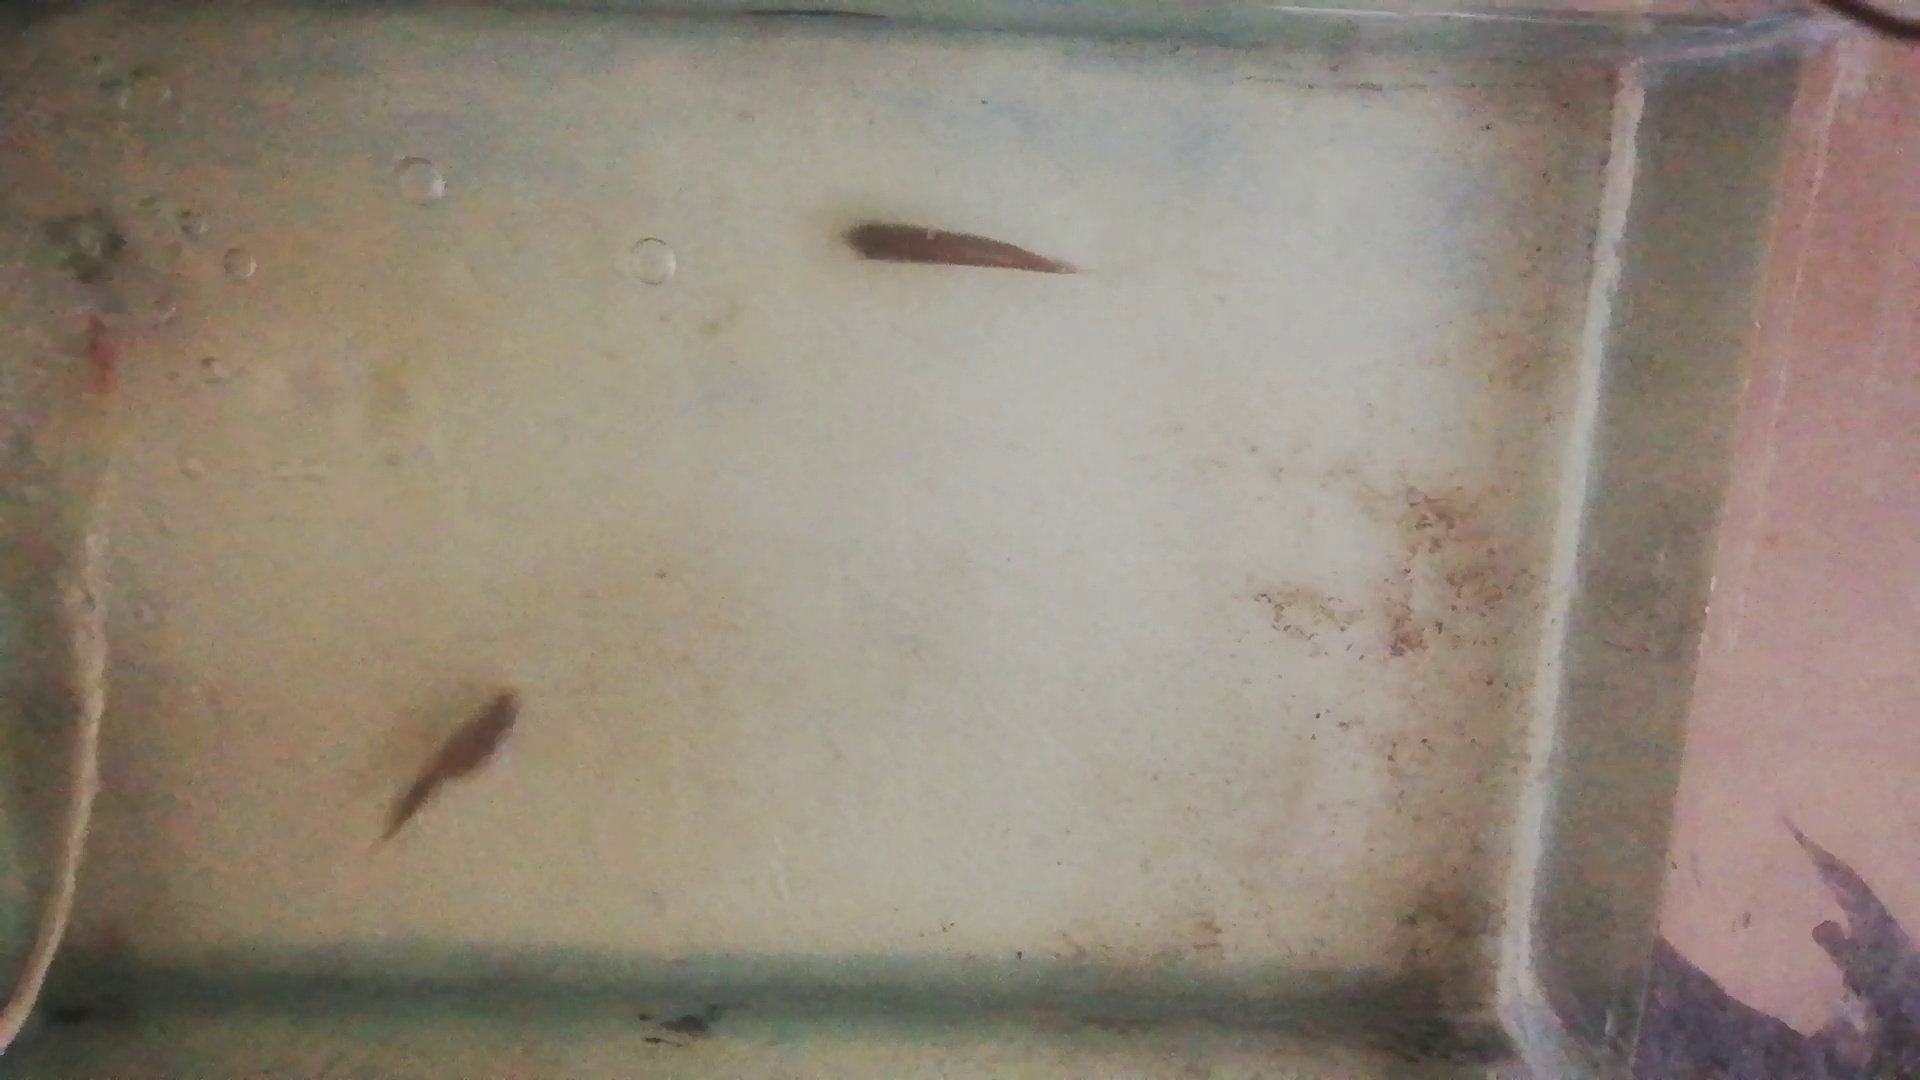fish: (377, 686, 521, 847), (836, 223, 1075, 276)
